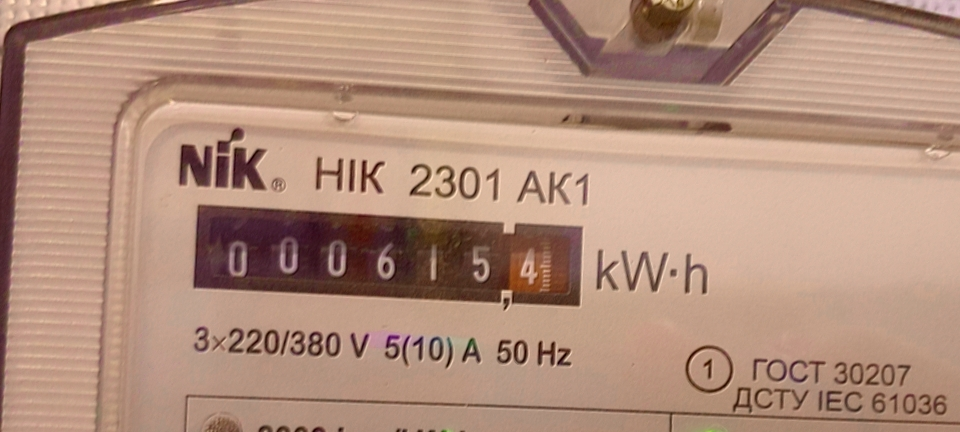0: (221, 235, 250, 278), (321, 235, 349, 279), (274, 232, 300, 274)
1: (424, 240, 440, 282)
4: (516, 243, 538, 285)
5: (466, 240, 492, 284)
6: (370, 238, 397, 280)
screen: (175, 184, 597, 328)
